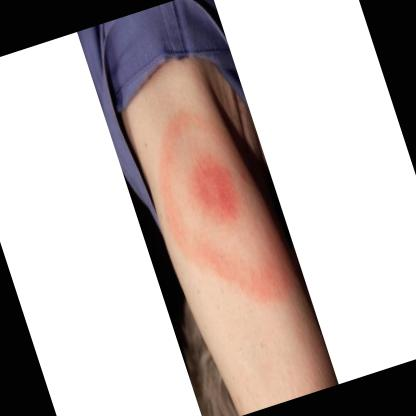Ringworm: (136, 94, 301, 330)
